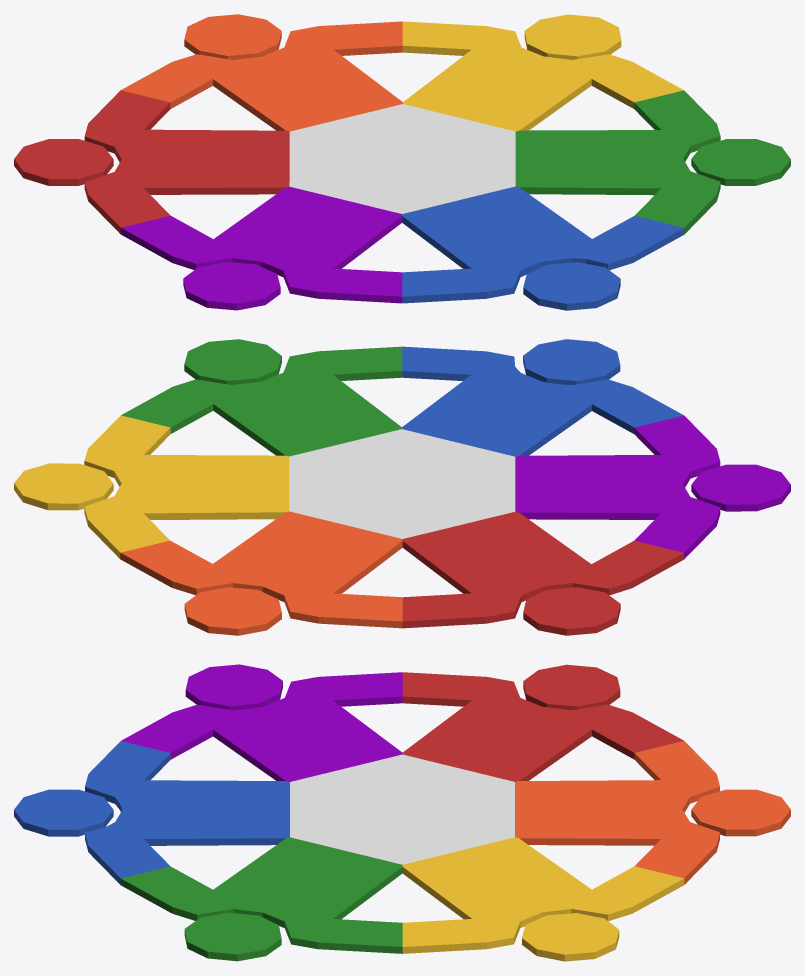
Rendered from platform-med.dae.
3 views of the same model, one above another, from view 1: azimuth 30°, elevation 25°; view 2: azimuth 150°, elevation 25°; view 3: azimuth 270°, elevation 25° (orthographic).
Visible parts, largest first — view 1: Hexagon_003; view 2: Hexagon_003; view 3: Hexagon_003.
Boxes of the visible parts, box(x1,y1,x2,y2) form: Hexagon_003: box(14, 14, 790, 310); Hexagon_003: box(14, 339, 790, 635); Hexagon_003: box(14, 664, 790, 961).
Bounding box in the file's own units: 9.13 × 10.32 × 0.1028.
